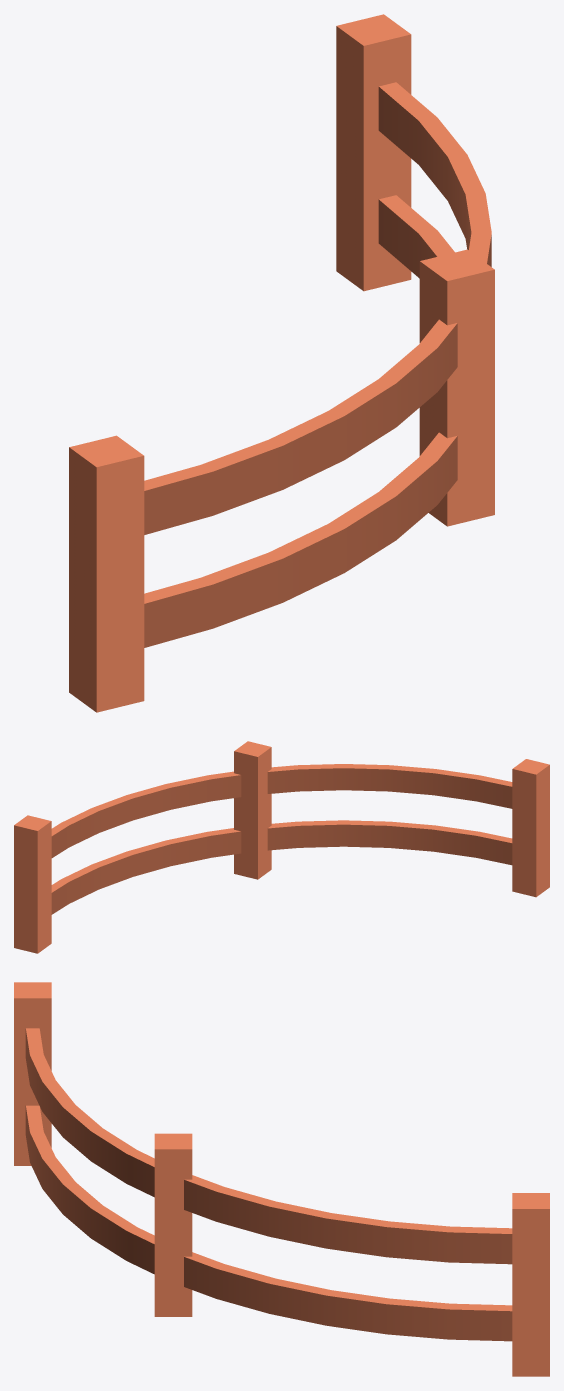
Rendered from fence_bendCenter.dae.
The picture shows the model from 3 angles, top to bottom: view 1: azimuth 30°, elevation 25°; view 2: azimuth 150°, elevation 25°; view 3: azimuth 270°, elevation 25°; orthographic projection. The views are drawn at different scales.
Parts seen in each view (by area): view 1: fence_bendCenter; view 2: fence_bendCenter; view 3: fence_bendCenter.
Boxes of the visible parts, bbox=[...] form: fence_bendCenter: bbox=[69, 14, 494, 712]; fence_bendCenter: bbox=[14, 741, 549, 953]; fence_bendCenter: bbox=[14, 982, 549, 1376].
Bounding box in the file's own units: 1 × 0.345 × 1.
